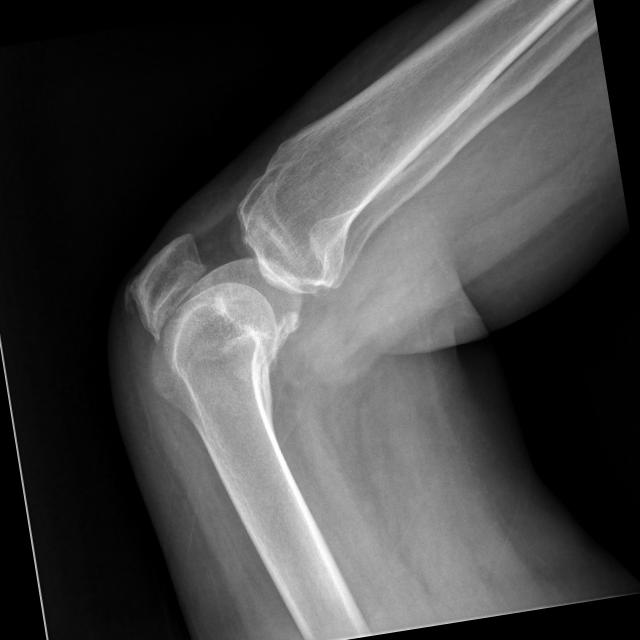Knee: (110, 165, 374, 411)
